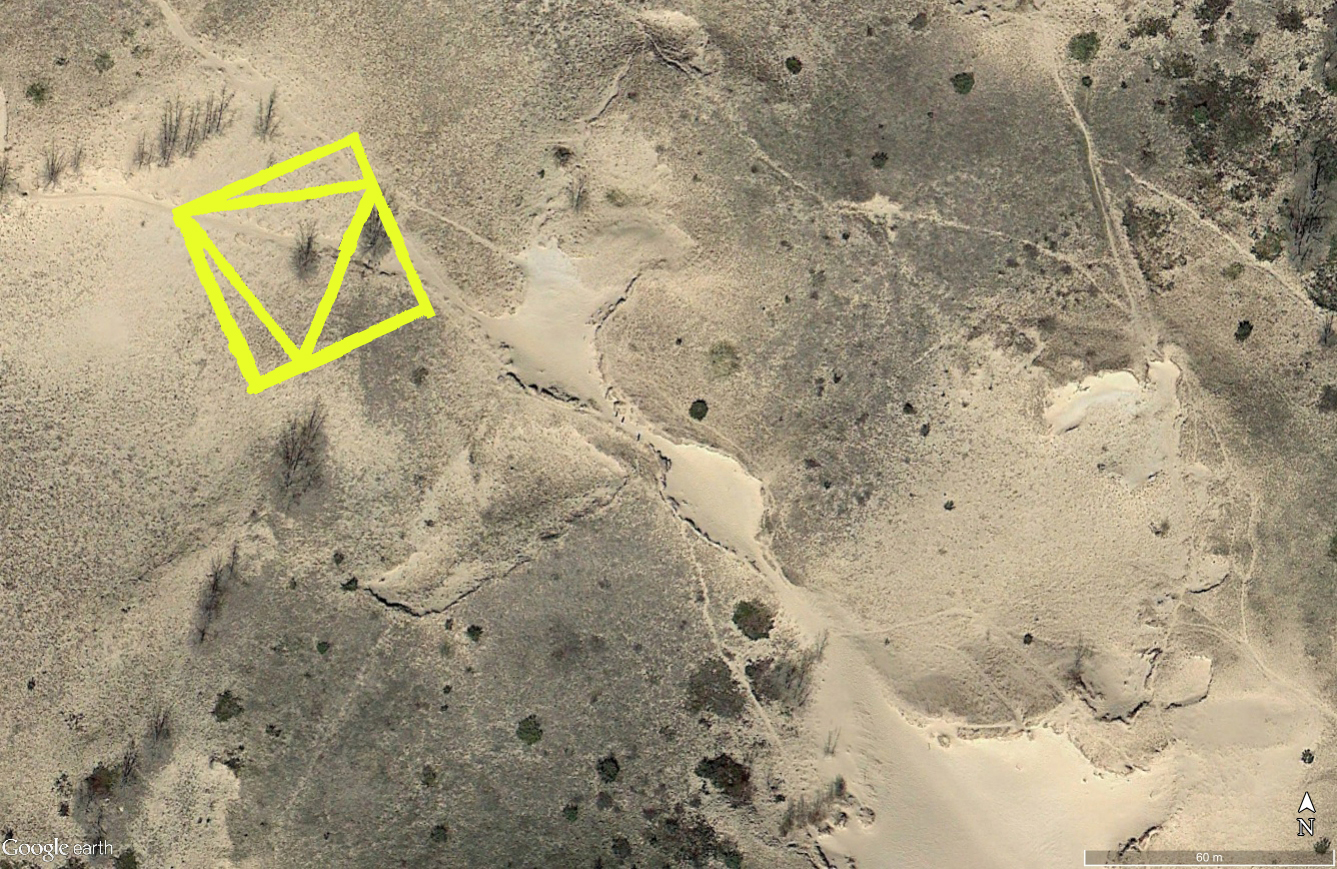marker: (160, 124, 440, 399)
